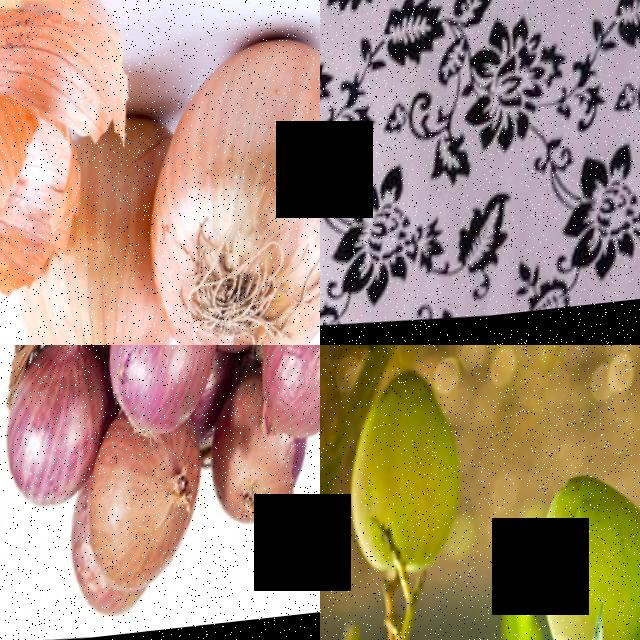mango: (342, 368, 475, 587), (529, 468, 640, 640)
onion: (162, 40, 320, 345), (27, 131, 171, 345), (85, 427, 211, 603), (0, 345, 112, 524), (104, 345, 229, 451), (210, 433, 315, 546), (263, 345, 320, 458)
